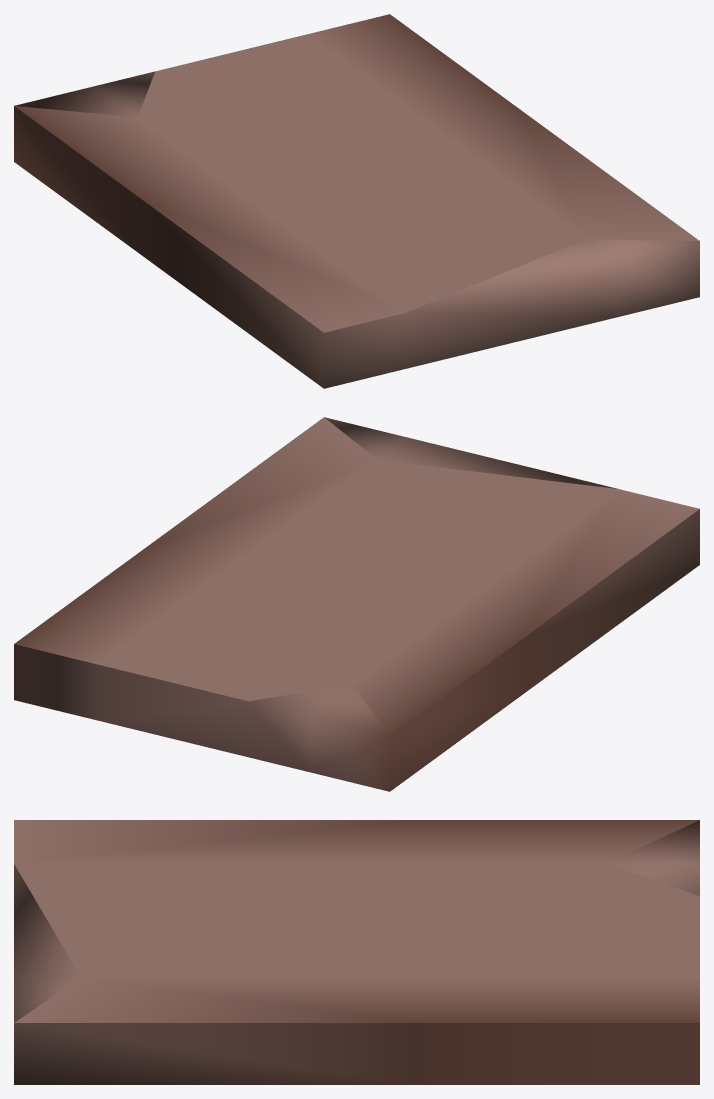
The model's file is HallPlatformShort.gltf.
3 views of the same model, one above another, from view 1: azimuth 30°, elevation 25°; view 2: azimuth 150°, elevation 25°; view 3: azimuth 270°, elevation 25° (orthographic). The views are drawn at different scales.
Visible parts, largest first — view 1: HallPlatformShortMesh; view 2: HallPlatformShortMesh; view 3: HallPlatformShortMesh.
Boxes of the visible parts, x1,y1,x2,y2 form: HallPlatformShortMesh: [14, 14, 699, 388]; HallPlatformShortMesh: [14, 417, 699, 791]; HallPlatformShortMesh: [14, 820, 699, 1084].
Bounding box in the file's own units: 7 × 0.9971 × 10.
